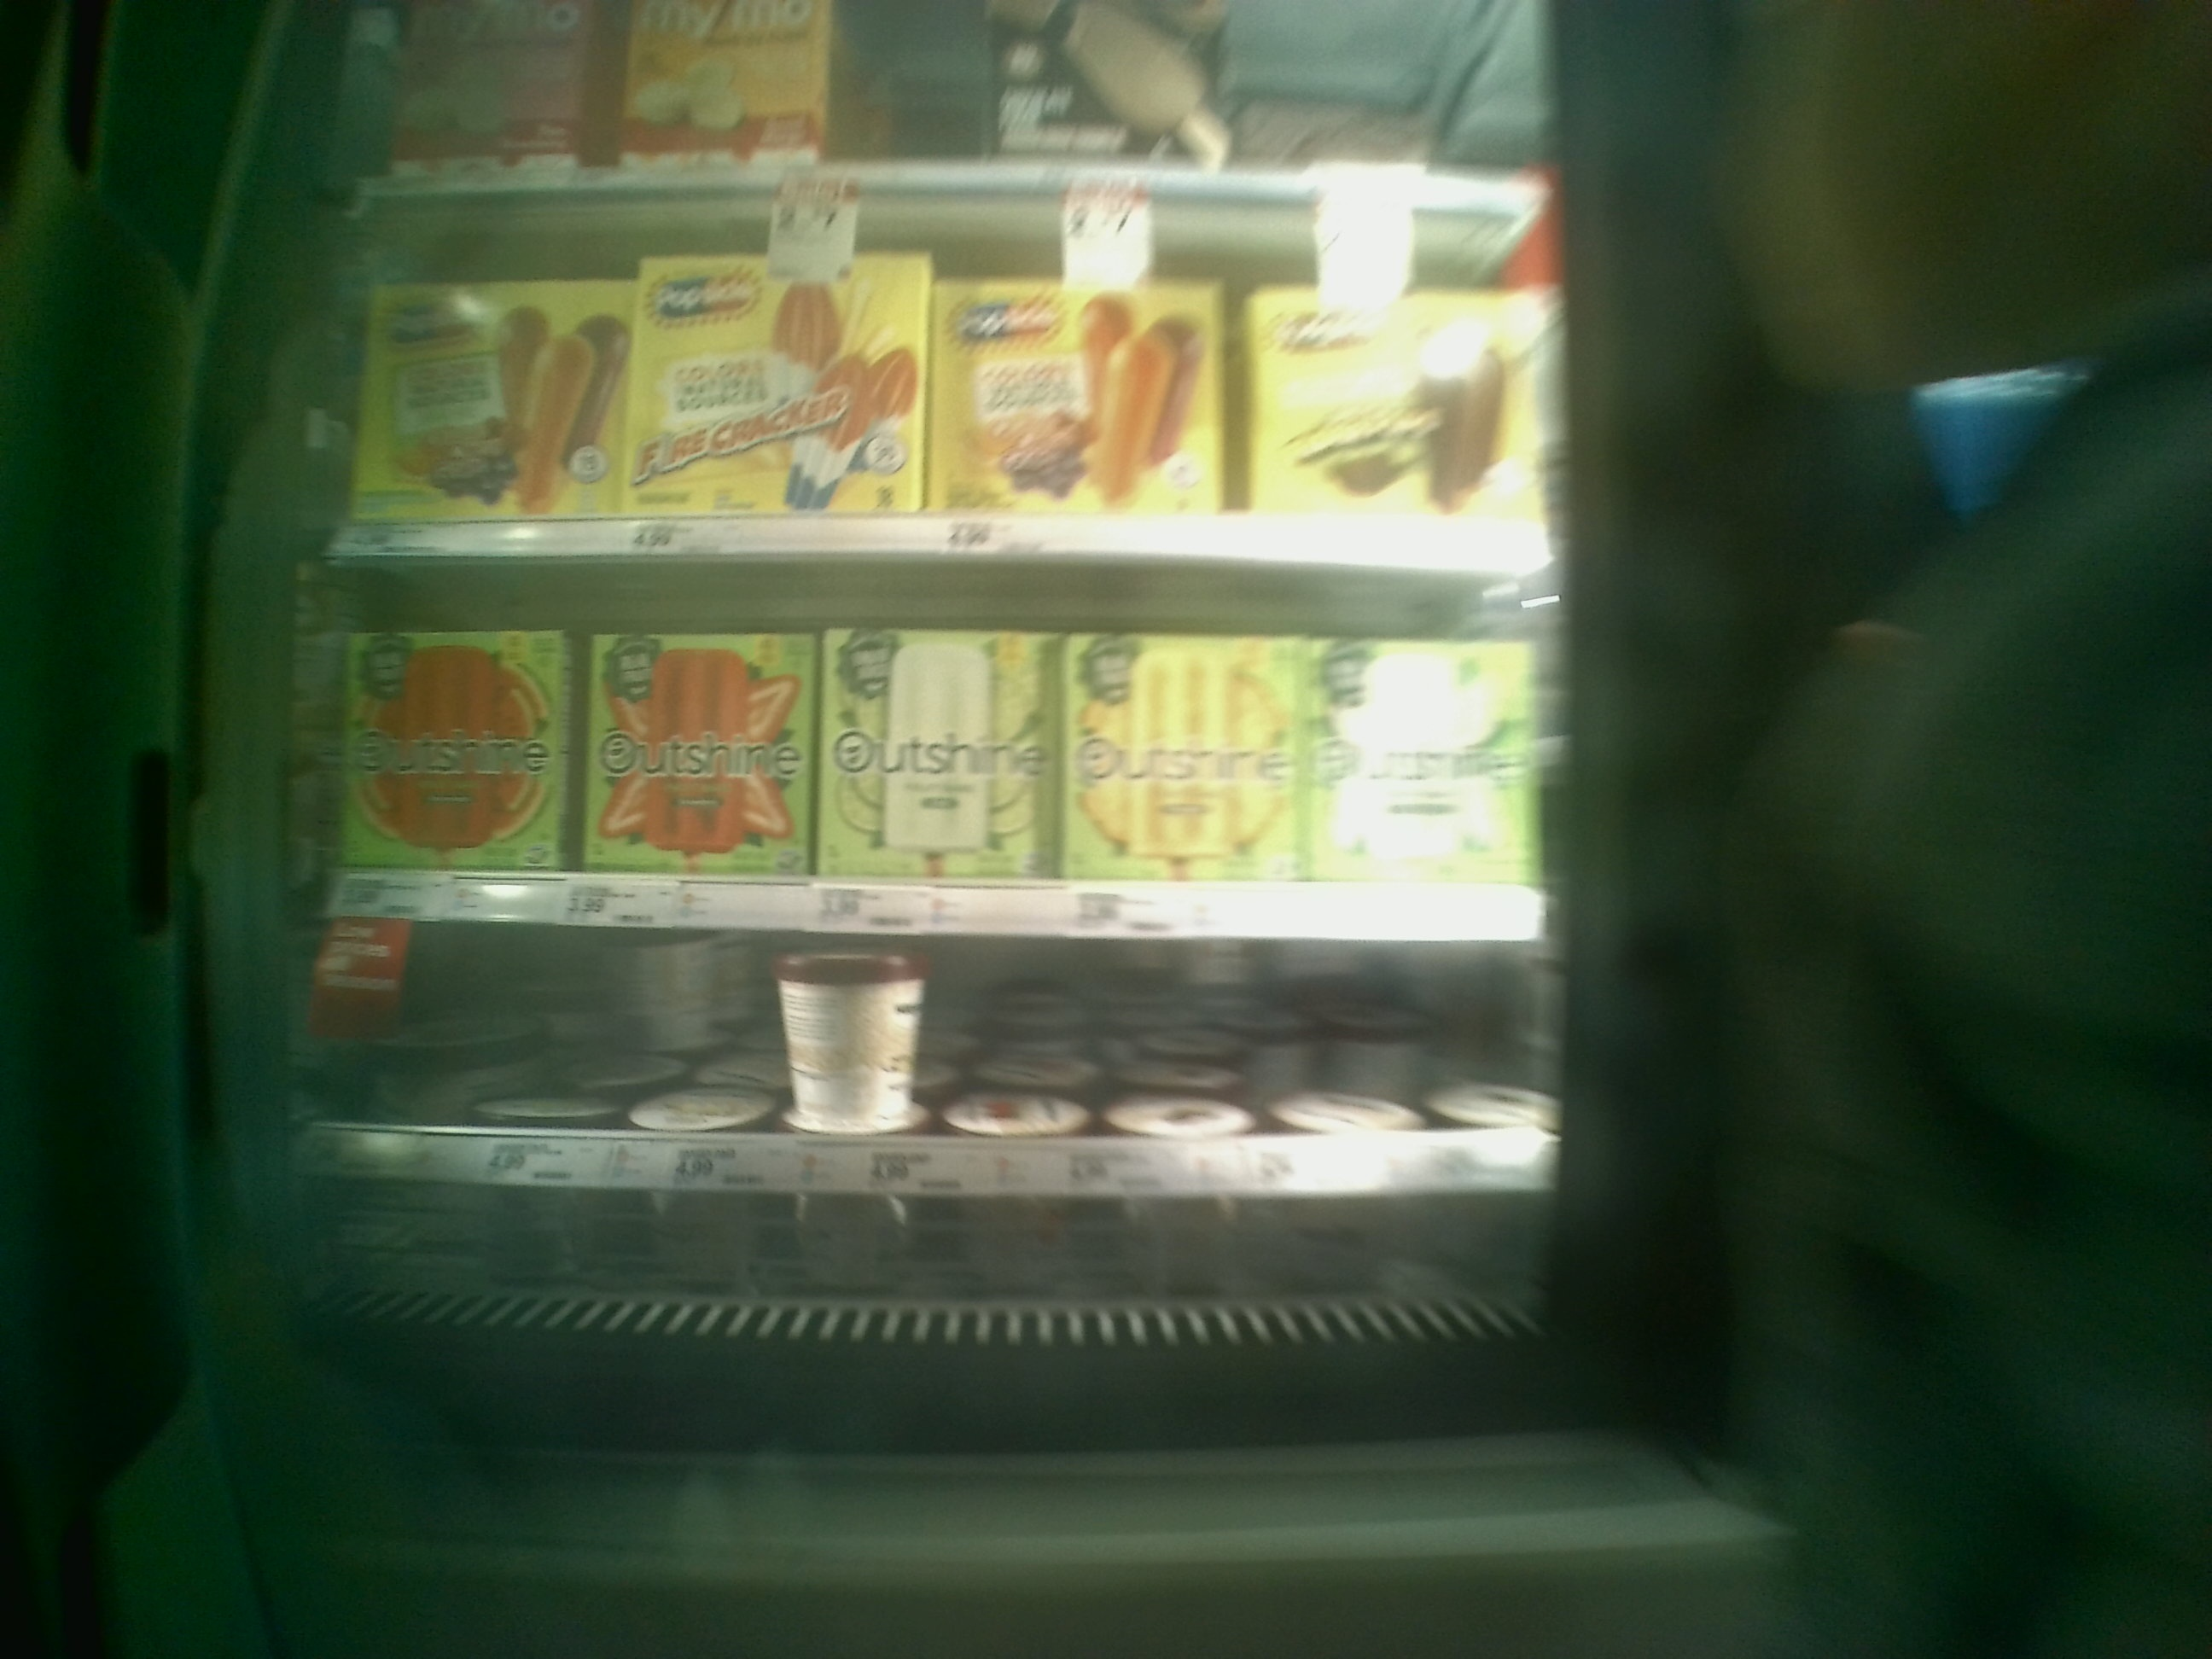ice-cream-shelf: (308, 547, 1583, 945), (307, 932, 1575, 1256)
